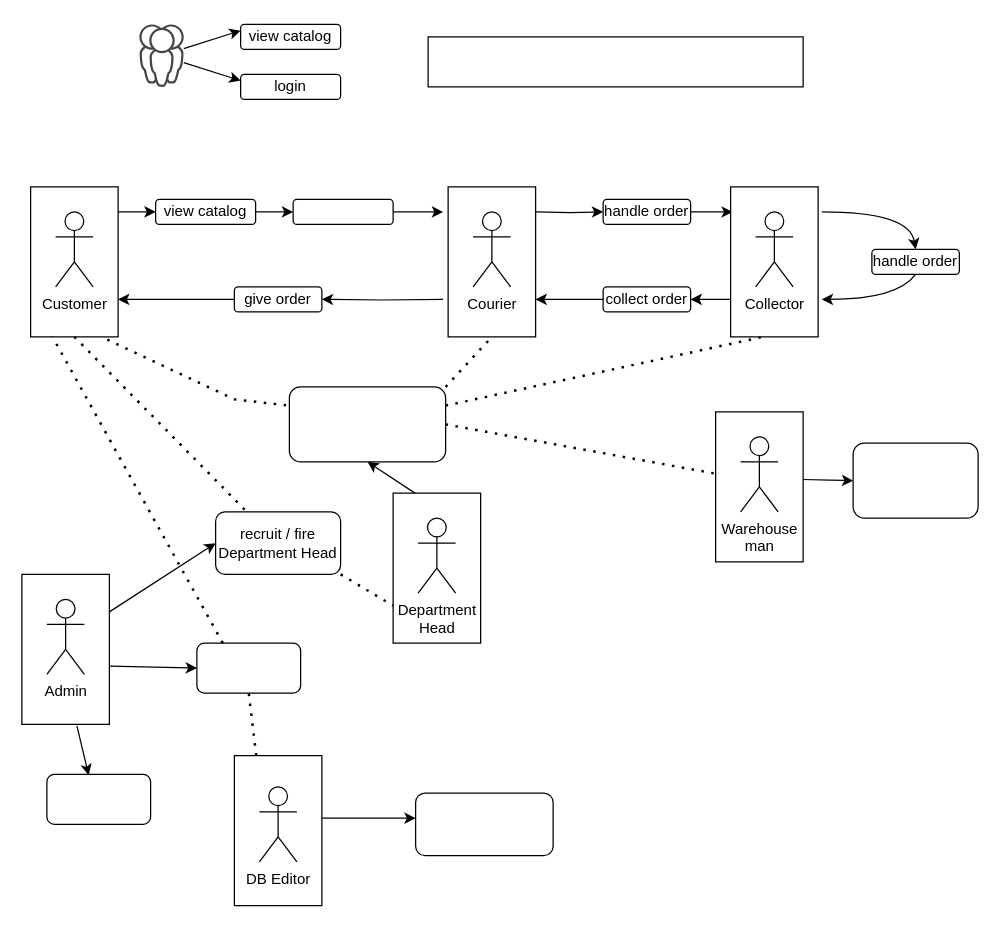
The diagram is 1000 pixels wide and 928 high, and some of its shapes have lost their labels. Each missing label, with the centre of its shape:
"add/delete DB Editor" belongs at (248,667).
"Any role has same rights as Customer" belongs at (615,61).
"change product quantity in department warehouse" belongs at (915,480).
"create order" belongs at (342,211).
"edit products, categories, departments info" belongs at (483,824).
"recruit user / fire employee, change employee role" belongs at (367,424).
"Unauthorized" belongs at (161,55).
"view admins, DB Editors" belongs at (98,798).
